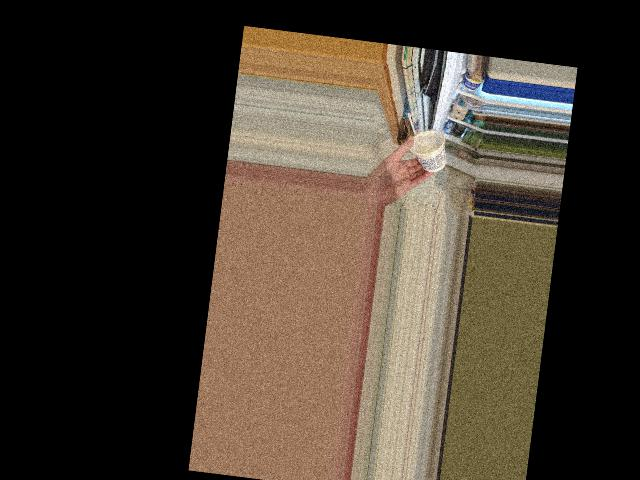cotage: (409, 127, 446, 175)
